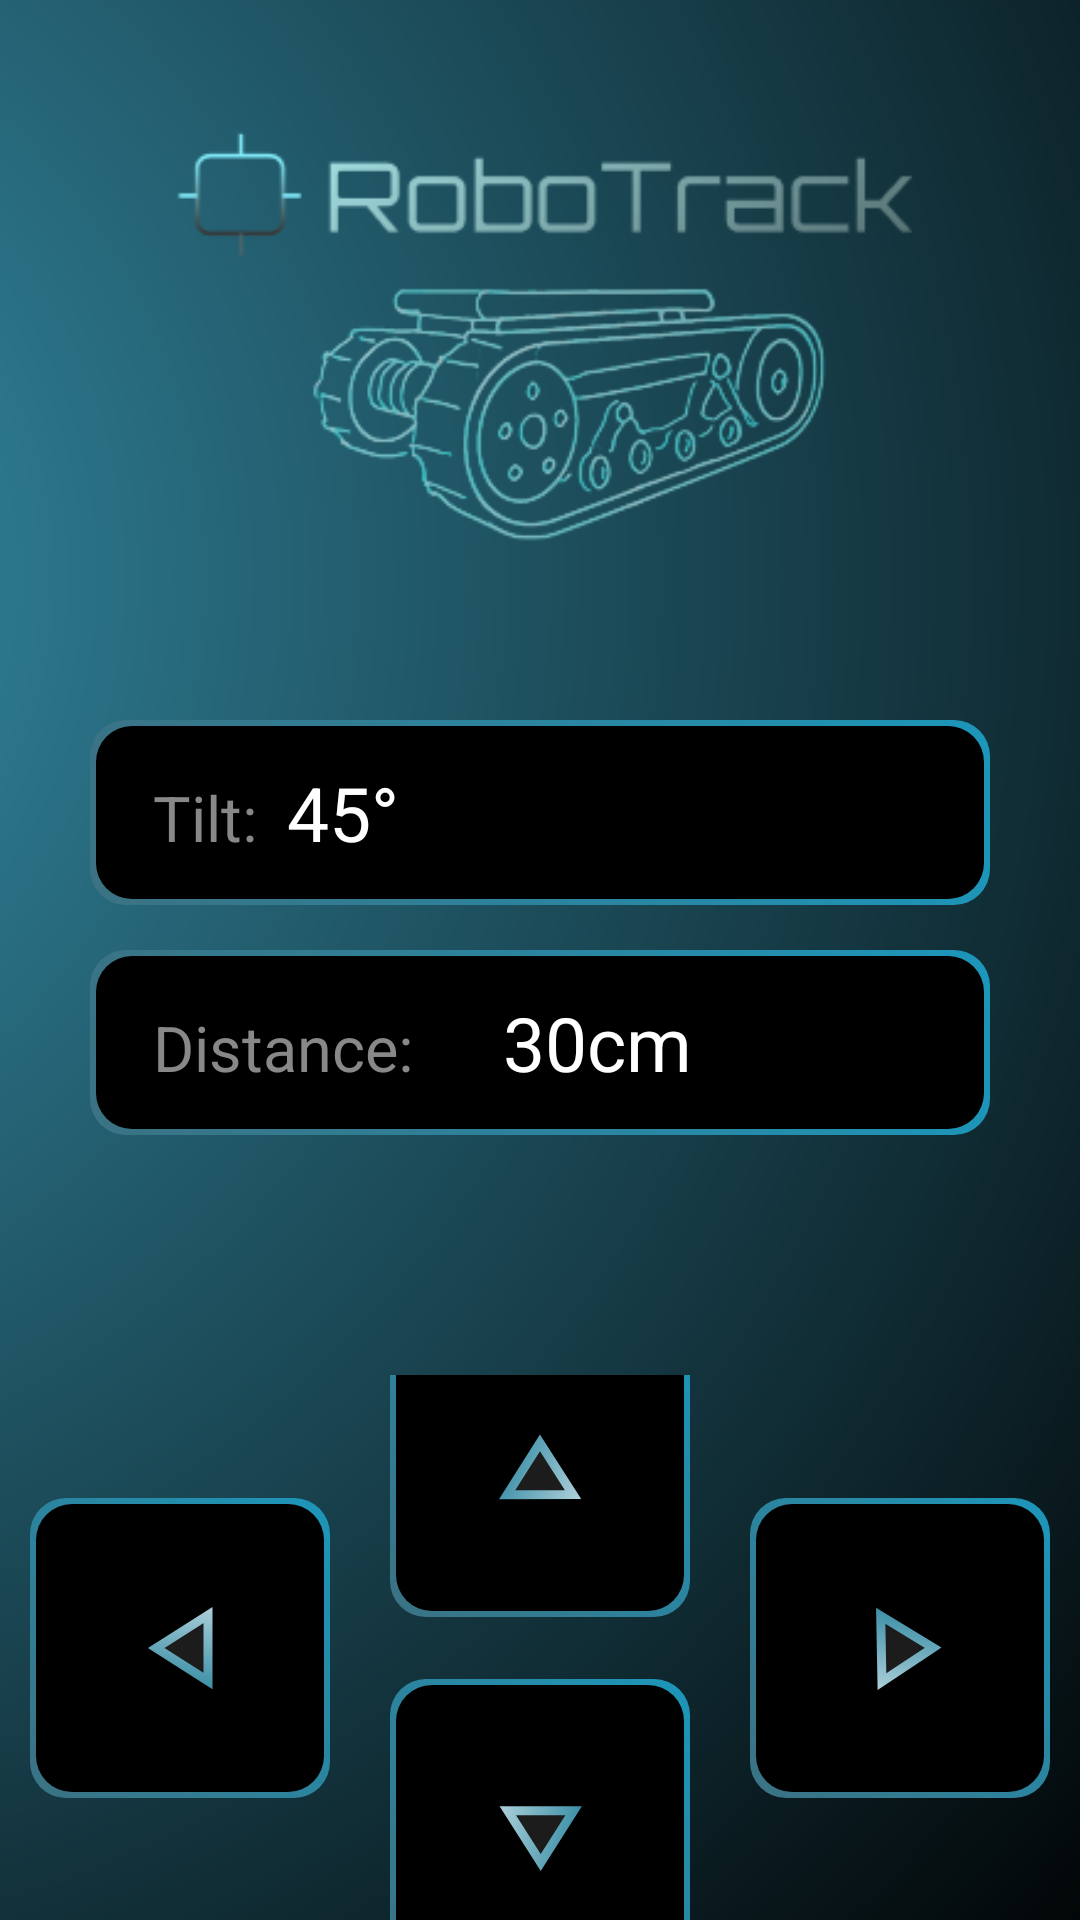

Icons on this 1080x1920 Android screen, each with its box as bbox=[x1, y1, x2, y2]:
left: bbox=[30, 1498, 330, 1798]
right: bbox=[750, 1498, 1050, 1798]
